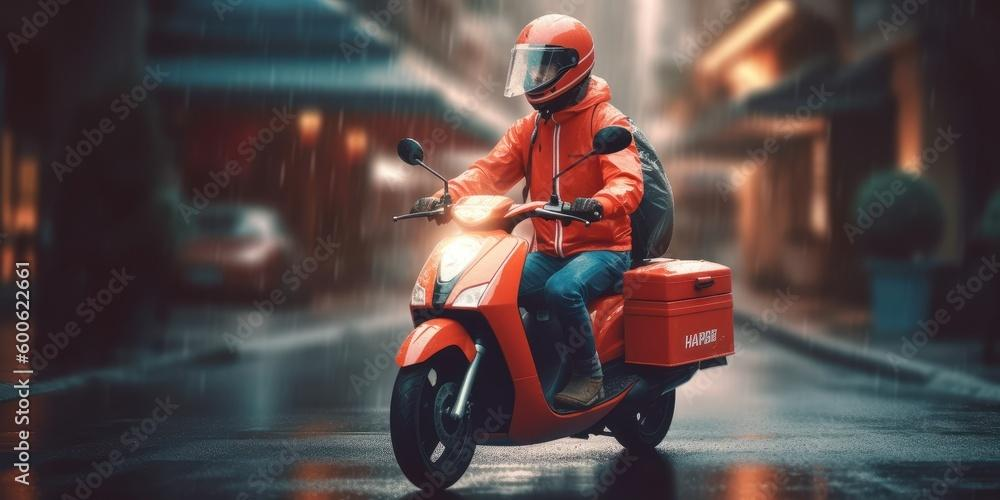helmet: (504, 13, 596, 111)
